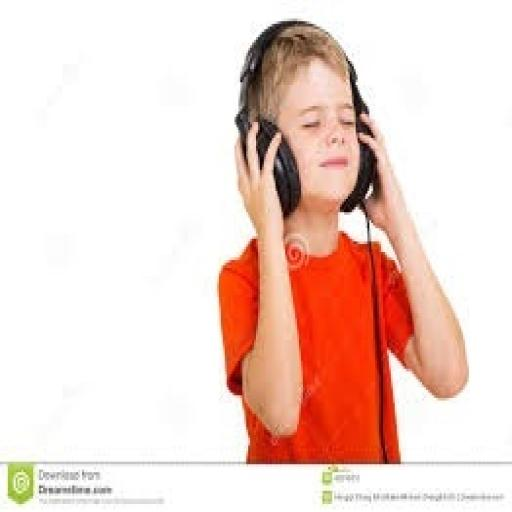listening_to_music: (215, 16, 471, 464), (233, 16, 377, 220)
